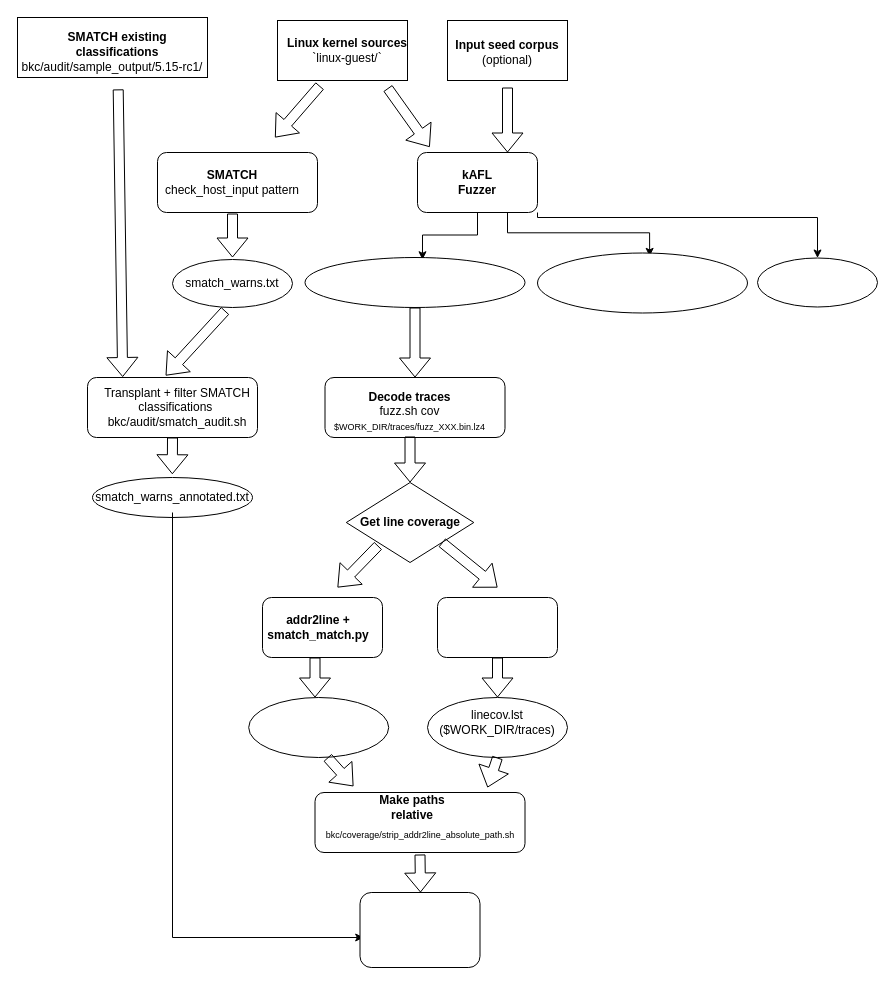
This 895x985 diagram has some shape labels left out. The centre of each missing label's shape, as x and y in pixels:
"addr2line.lst smatch_match.lst ($WORK_DIR/traces)" goes at point (318, 727).
"fast_matcher" goes at point (497, 627).
"Logs $WORK_DIR/logs" goes at point (817, 282).
"smatcher Generate Summary stats and match against SMATCH results" goes at point (419, 930).
"Test case corpus $WORK_DIR/corpus/[crash, timeout,regular,kasan]" goes at point (642, 282).
"Traces $WORK_DIR/traces/fuzz_XXX.bin.lz4" goes at point (414, 282).
